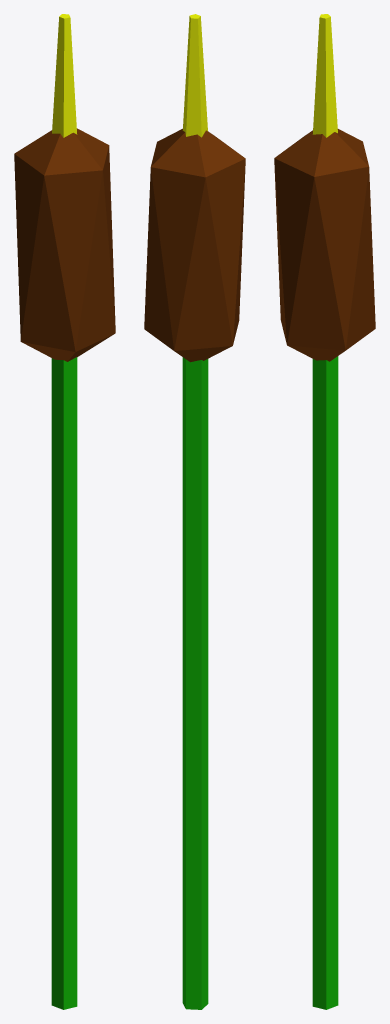
Rendered from plant_1.fbx.
3 renders of one model, left to right at view 1: azimuth 30°, elevation 25°; view 2: azimuth 210°, elevation 25°; view 3: azimuth 330°, elevation 25°, orthographic.
Parts seen in each view (by area): view 1: Icosphere; view 2: Icosphere; view 3: Icosphere.
Part boxes in pixels (x1,y1,x2,y2): Icosphere: [14, 14, 115, 1009]; Icosphere: [144, 14, 245, 1009]; Icosphere: [274, 14, 375, 1009].
Size of the model in its own units: 80.05 by 855 by 76.13.
